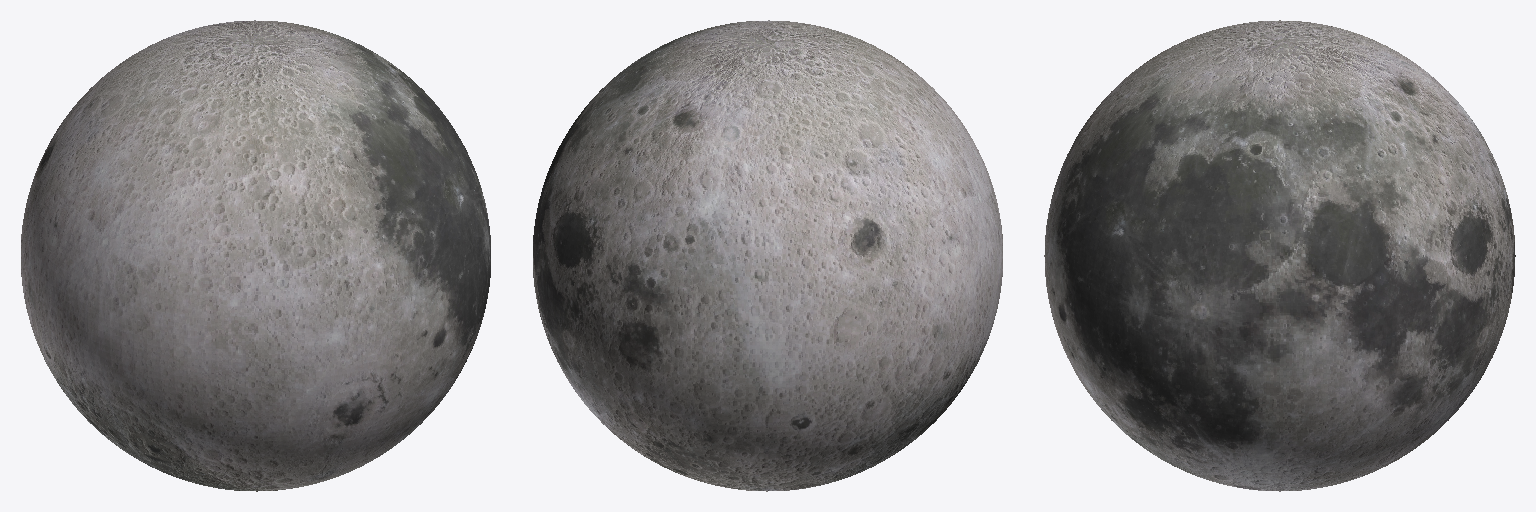
3 views of the same model, side by side, from view 1: azimuth 30°, elevation 25°; view 2: azimuth 150°, elevation 25°; view 3: azimuth 270°, elevation 25° (orthographic).
Parts seen in each view (by area): view 1: Sphere; view 2: Sphere; view 3: Sphere.
Part boxes in pixels (x1,y1,x2,y2): Sphere: (21,20,490,491); Sphere: (533,20,1002,491); Sphere: (1044,20,1515,491).
Bounding box in the file's own units: 0.5513 × 0.5513 × 0.5513.
1 materials, 1 textured.